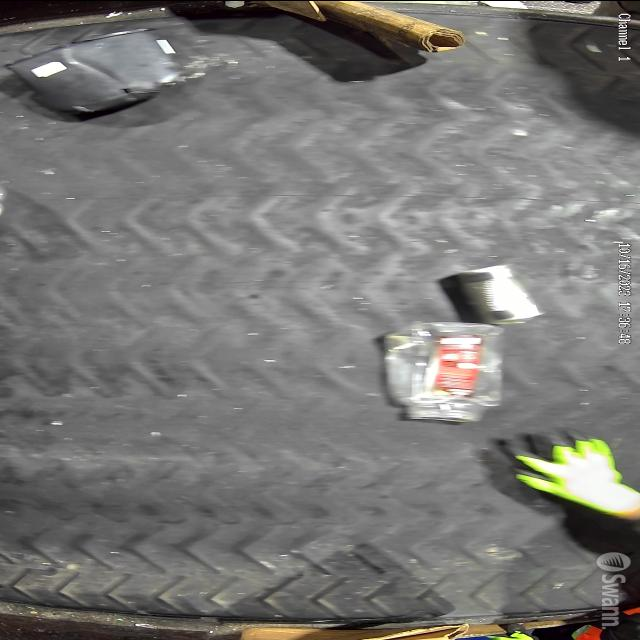can: (448, 264, 550, 322)
